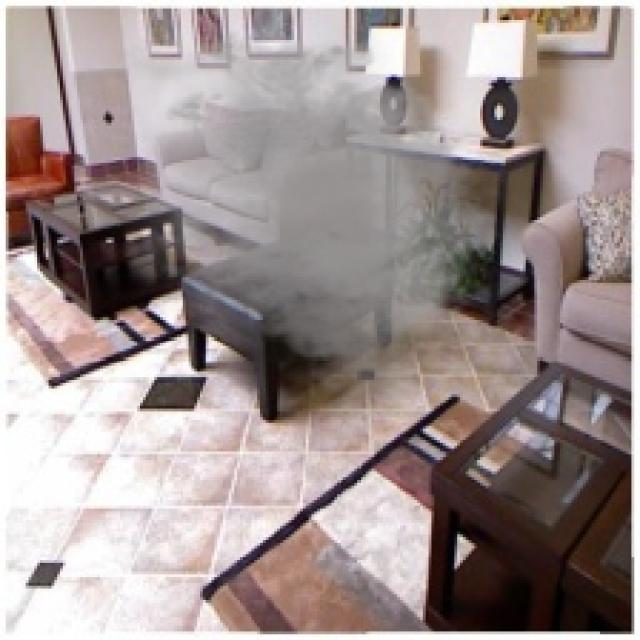smoke: (103, 11, 511, 408)
